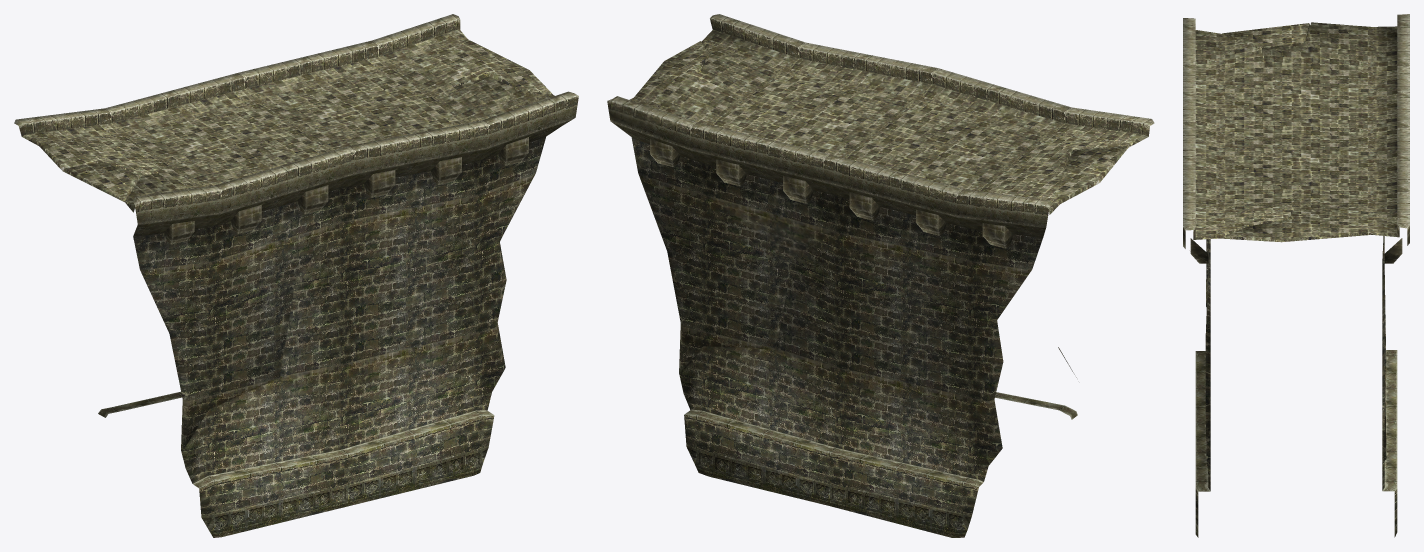
File: OZ_30_kn_castle01F.glb
3 views of the same model, side by side, from view 1: azimuth 30°, elevation 25°; view 2: azimuth 150°, elevation 25°; view 3: azimuth 270°, elevation 25° (orthographic). The views are drawn at different scales.
Parts seen in each view (by area): view 1: OM_30_kn_castle01F; view 2: OM_30_kn_castle01F; view 3: OM_30_kn_castle01F.
Part boxes in pixels (x1,y1,x2,y2): OM_30_kn_castle01F: (14,14,578,537); OM_30_kn_castle01F: (607,14,1154,537); OM_30_kn_castle01F: (1183,14,1409,537).
Size of the model in its own units: 20.34 by 15.59 by 9.
Materials: 2 (2 with a texture image).
